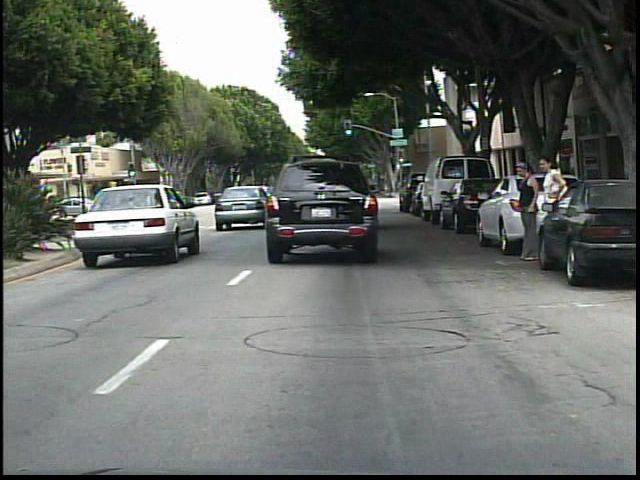person: (535, 153, 570, 258), (510, 161, 540, 267)
